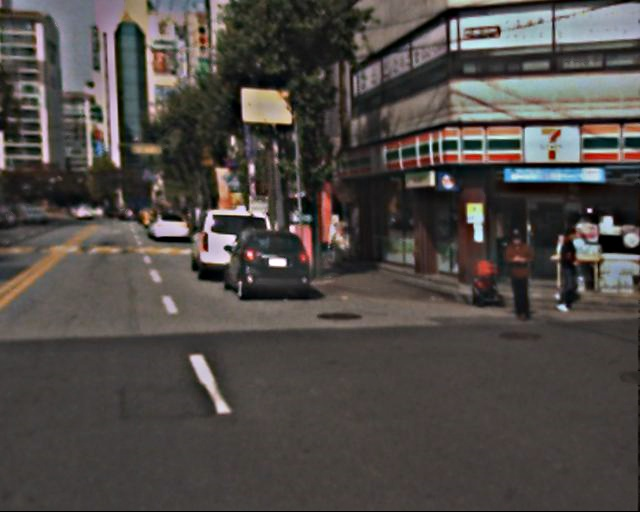person: (499, 228, 545, 323), (552, 232, 592, 318)
